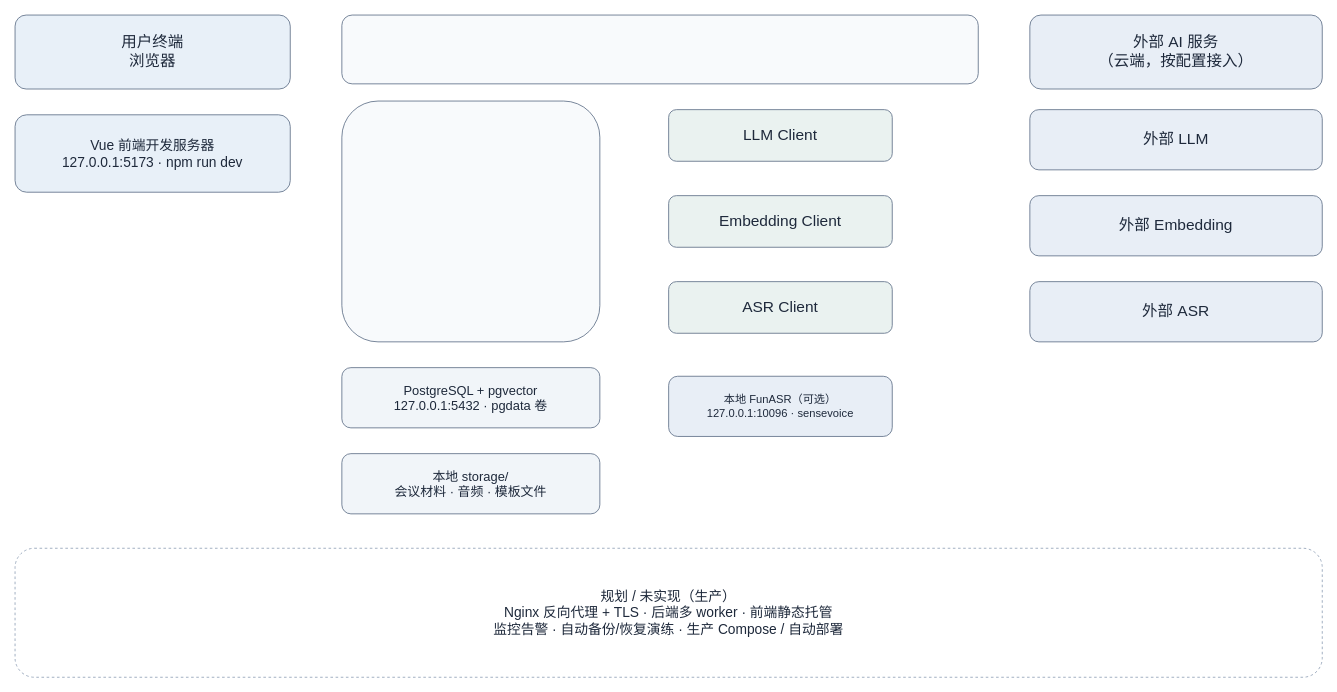
Some shapes in this 1337 by 692 pixel diagram are drawn without their labels. The centre of each missing label's shape, as x and y in pixels:
"FastAPI 后端 127.0.0.1:8000 · 单 uvicorn API Router · 认证 依赖注入" goes at (x=470, y=221).
"宿主机 / Docker 开发环境 docker compose -f docker/compose.dev.yml" goes at (x=659, y=49).
